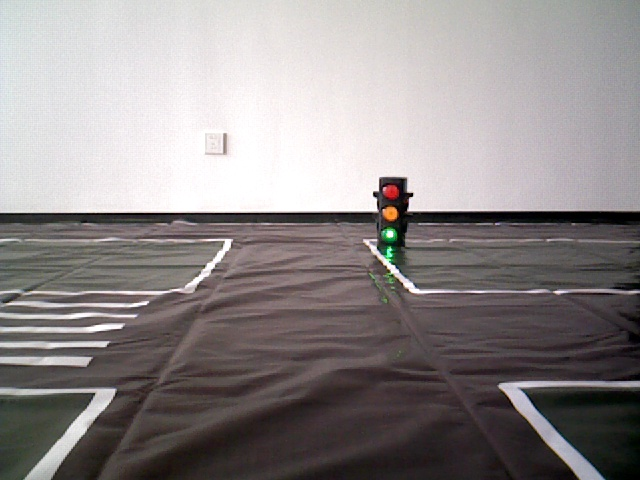green: (381, 176, 403, 241)
